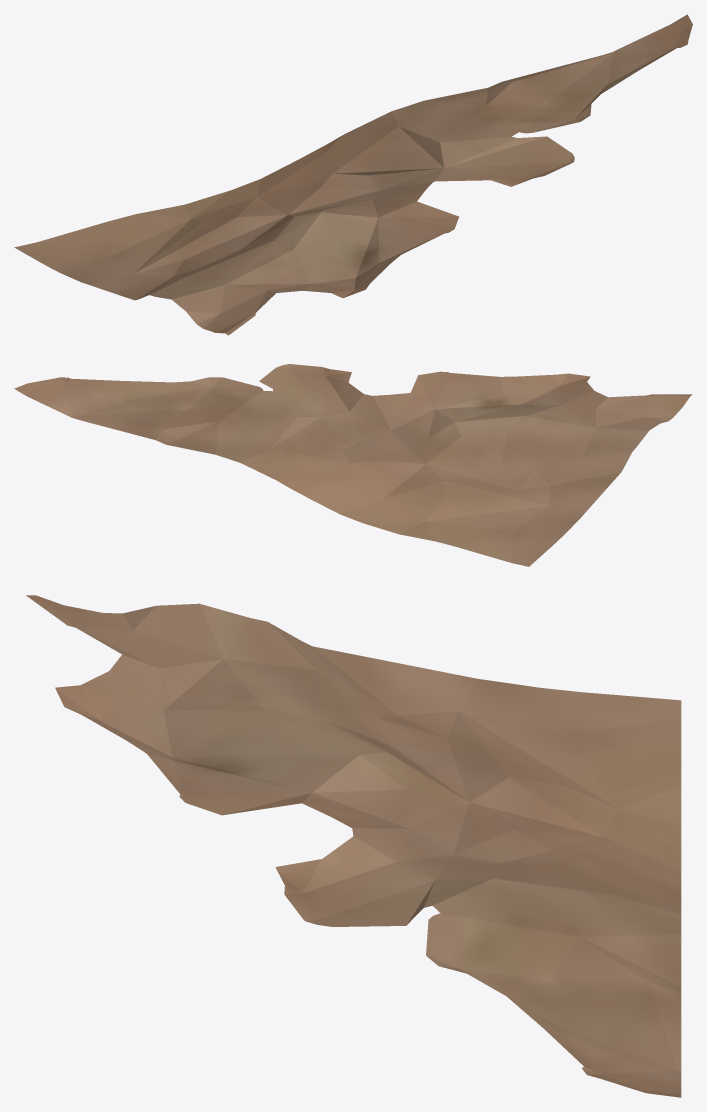
3 renders of one model, top to bottom at view 1: azimuth 30°, elevation 25°; view 2: azimuth 150°, elevation 25°; view 3: azimuth 270°, elevation 25°, orthographic. The views are drawn at different scales.
Size of the model in its own units: 0.5816 by 0.0571 by 0.3208.
1 material, 1 textured.
